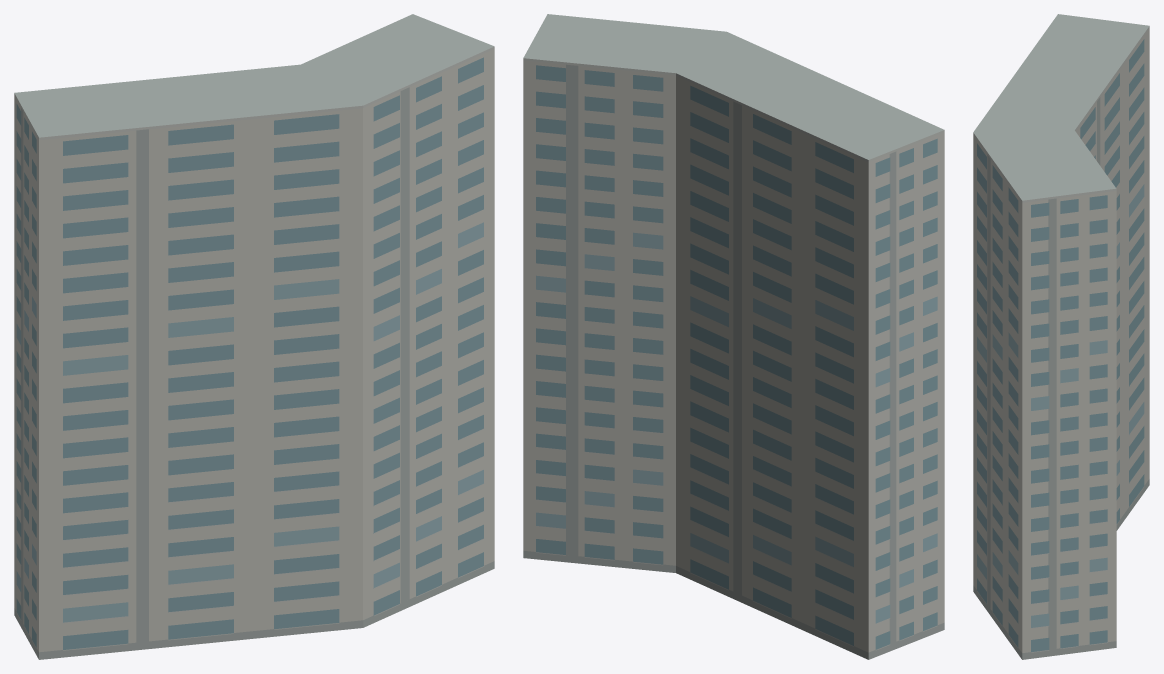
Rendered from residential-ed285e2a-d84d-4a93-b667-892bbe561572.glb.
The picture shows the model from 3 angles, left to right: view 1: azimuth 30°, elevation 25°; view 2: azimuth 150°, elevation 25°; view 3: azimuth 270°, elevation 25°; orthographic projection. The views are drawn at different scales.
Visible parts, largest first — view 1: residential-ed285e2a-d84d-4a93-b667-892bbe561572.tmp; view 2: residential-ed285e2a-d84d-4a93-b667-892bbe561572.tmp; view 3: residential-ed285e2a-d84d-4a93-b667-892bbe561572.tmp.
Part boxes in pixels (box(x1,y1,x2,y2)): residential-ed285e2a-d84d-4a93-b667-892bbe561572.tmp: box(14, 14, 494, 659); residential-ed285e2a-d84d-4a93-b667-892bbe561572.tmp: box(523, 14, 944, 659); residential-ed285e2a-d84d-4a93-b667-892bbe561572.tmp: box(973, 14, 1149, 659).
Bounding box in the file's own units: 46.24 × 53 × 18.48.
